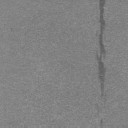red iron: (96, 0, 106, 101), (100, 120, 102, 126)
